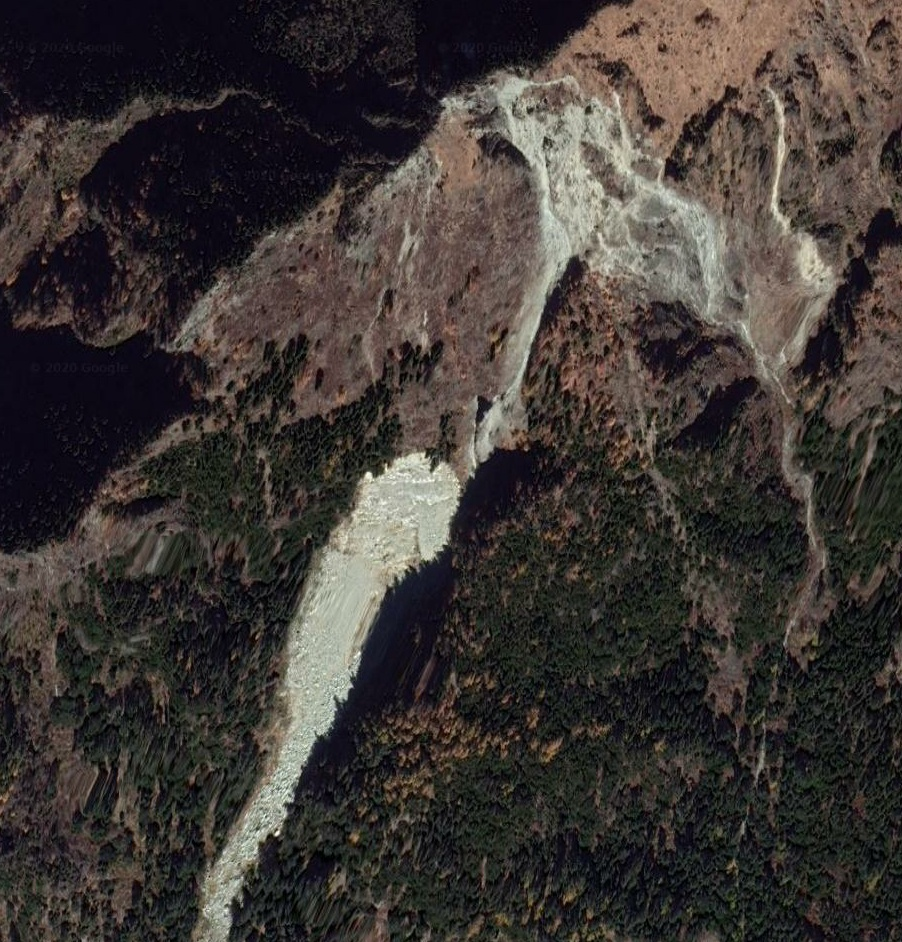slope: (182, 446, 467, 940), (464, 66, 753, 456), (771, 229, 839, 303)
